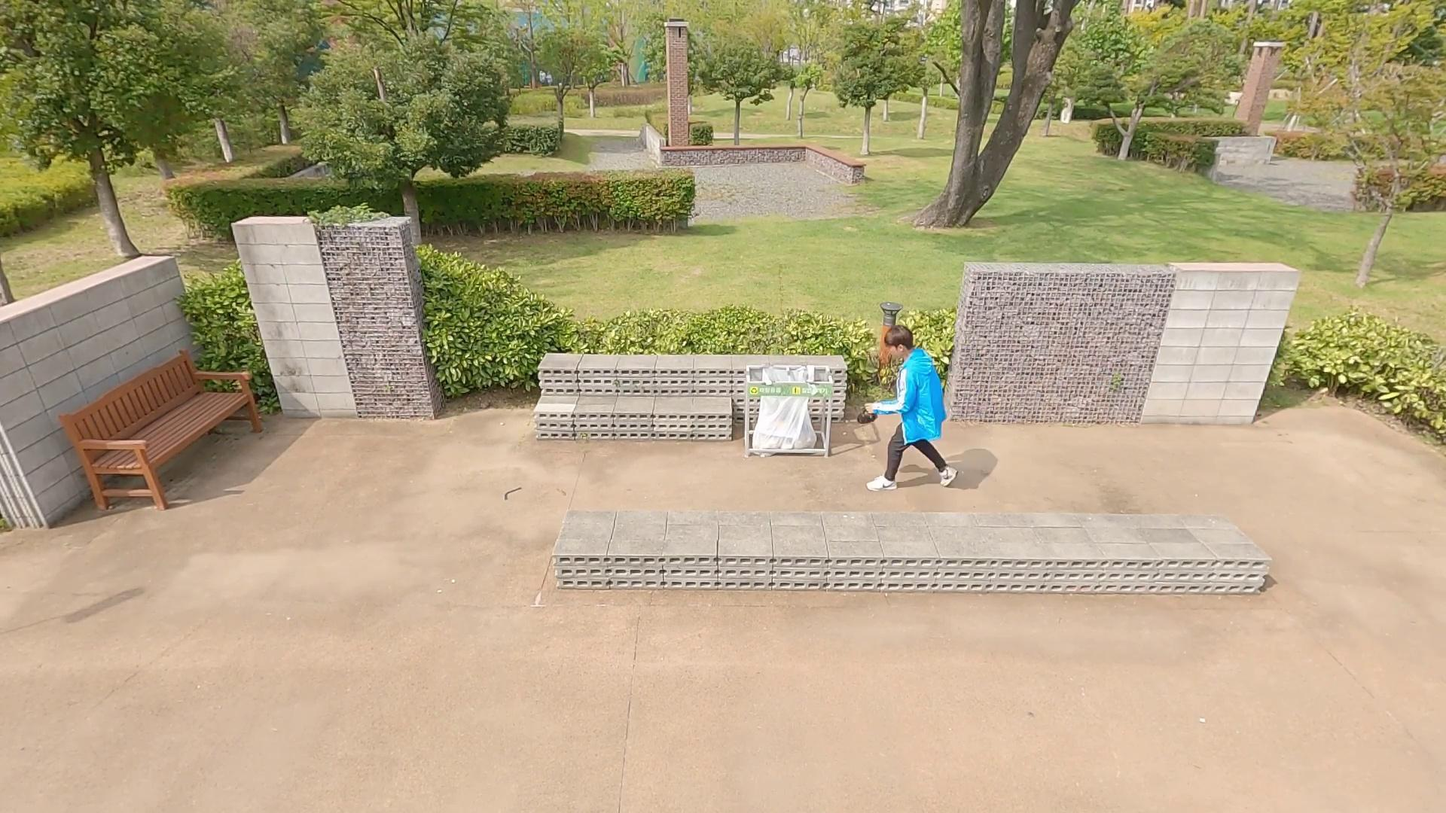person: (863, 317, 965, 498)
trash: (855, 402, 881, 428)
